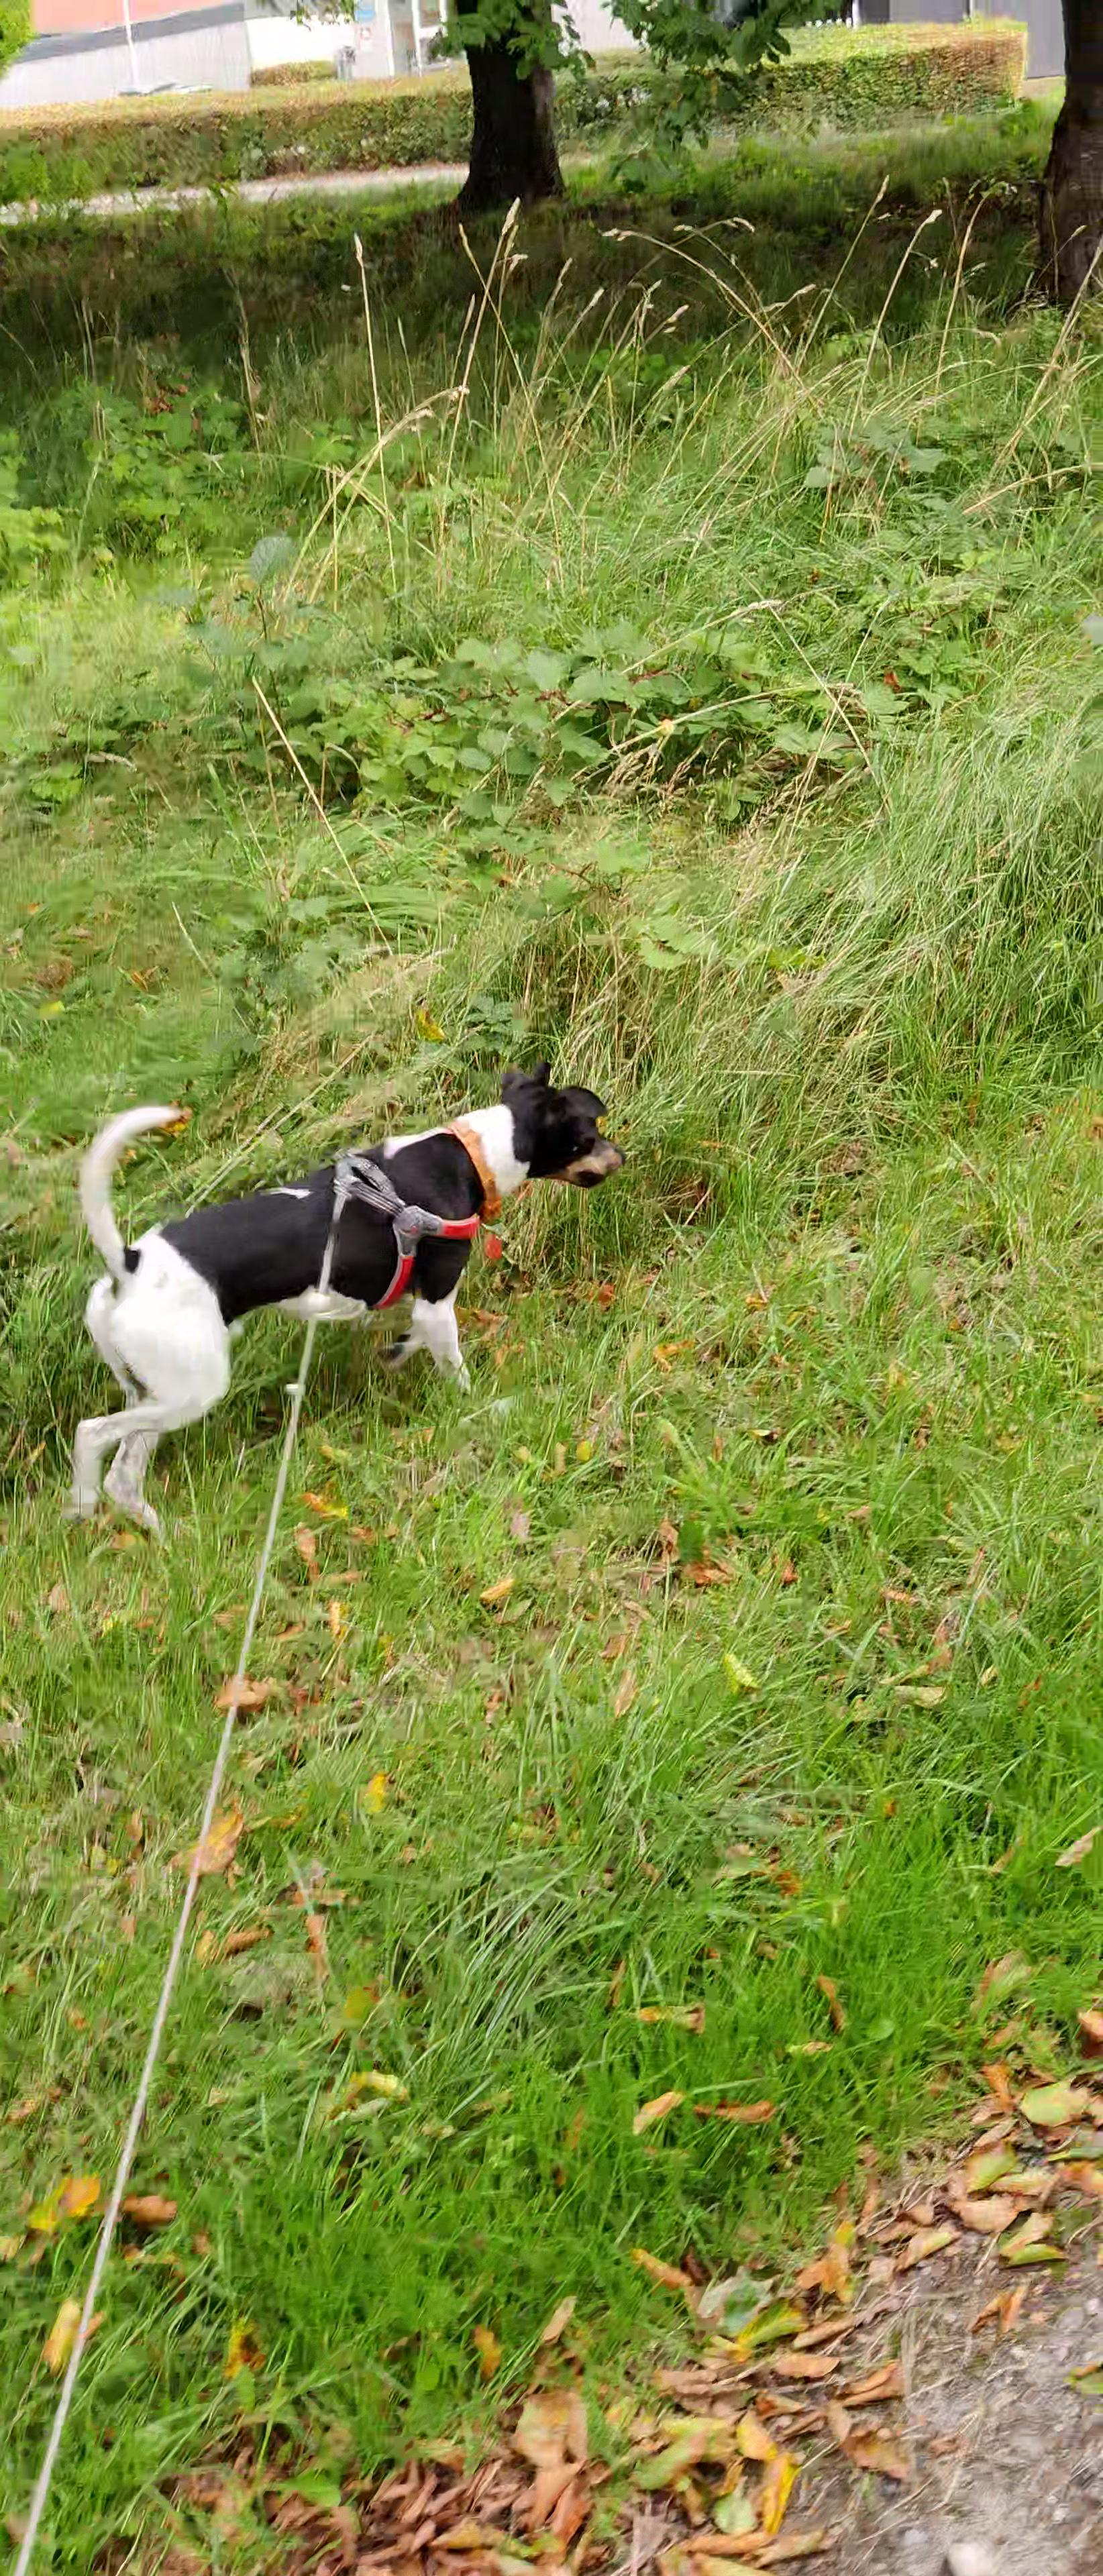Dog: (62, 1061, 631, 1541)
